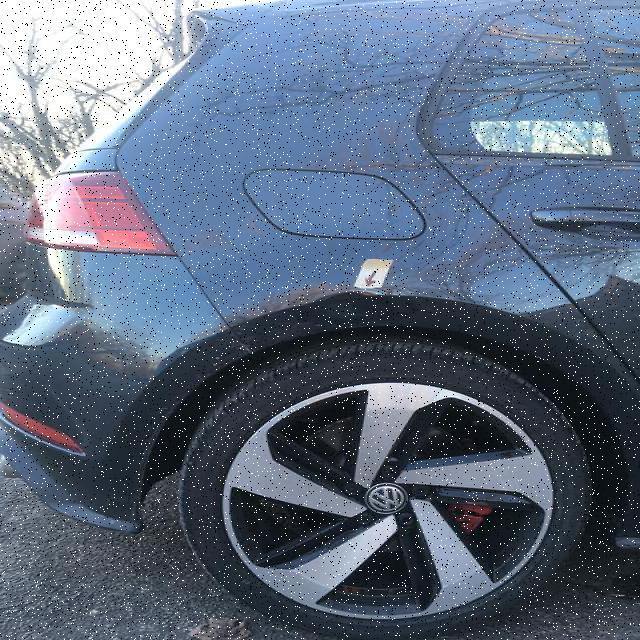quaterpanel-dent: (132, 133, 522, 420)
